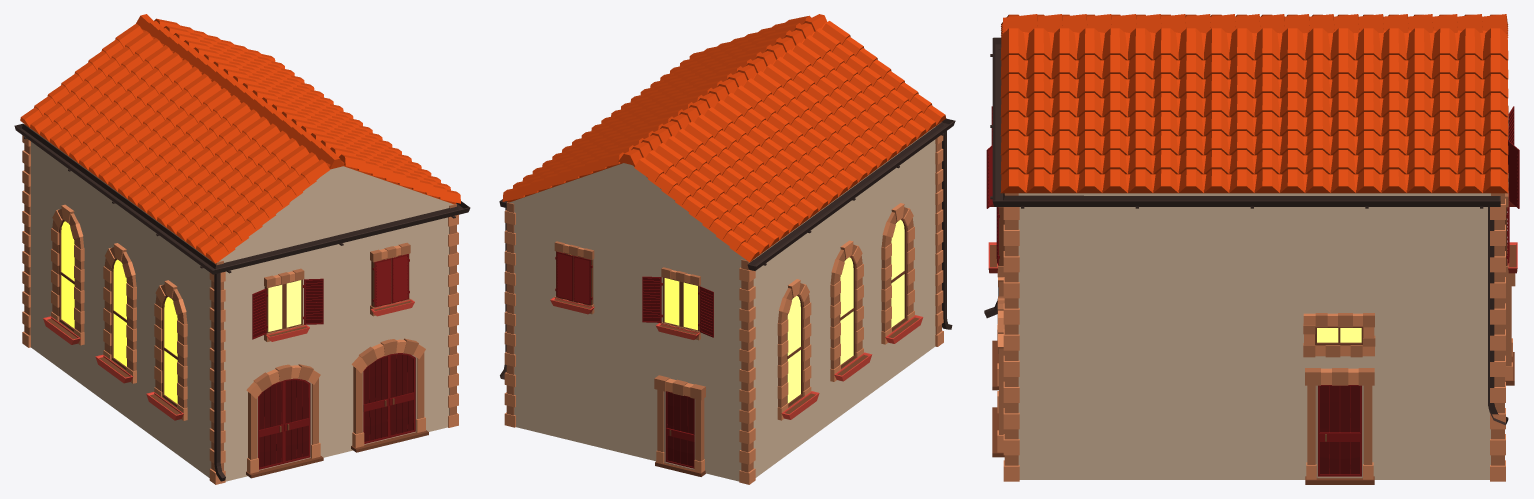
File: house_3.glb
3 renders of one model, left to right at view 1: azimuth 30°, elevation 25°; view 2: azimuth 150°, elevation 25°; view 3: azimuth 270°, elevation 25°, orthographic. The views are drawn at different scales.
Visible parts, largest first — view 1: house 3_brick 1_0; view 2: house 3_brick 1_0; view 3: house 3_brick 1_0.
Boxes of the visible parts, x1,y1,x2,y2 form: house 3_brick 1_0: [14, 14, 470, 484]; house 3_brick 1_0: [499, 14, 955, 484]; house 3_brick 1_0: [984, 14, 1519, 484].
Size of the model in its own units: 7.45 by 8.2 by 10.21.
